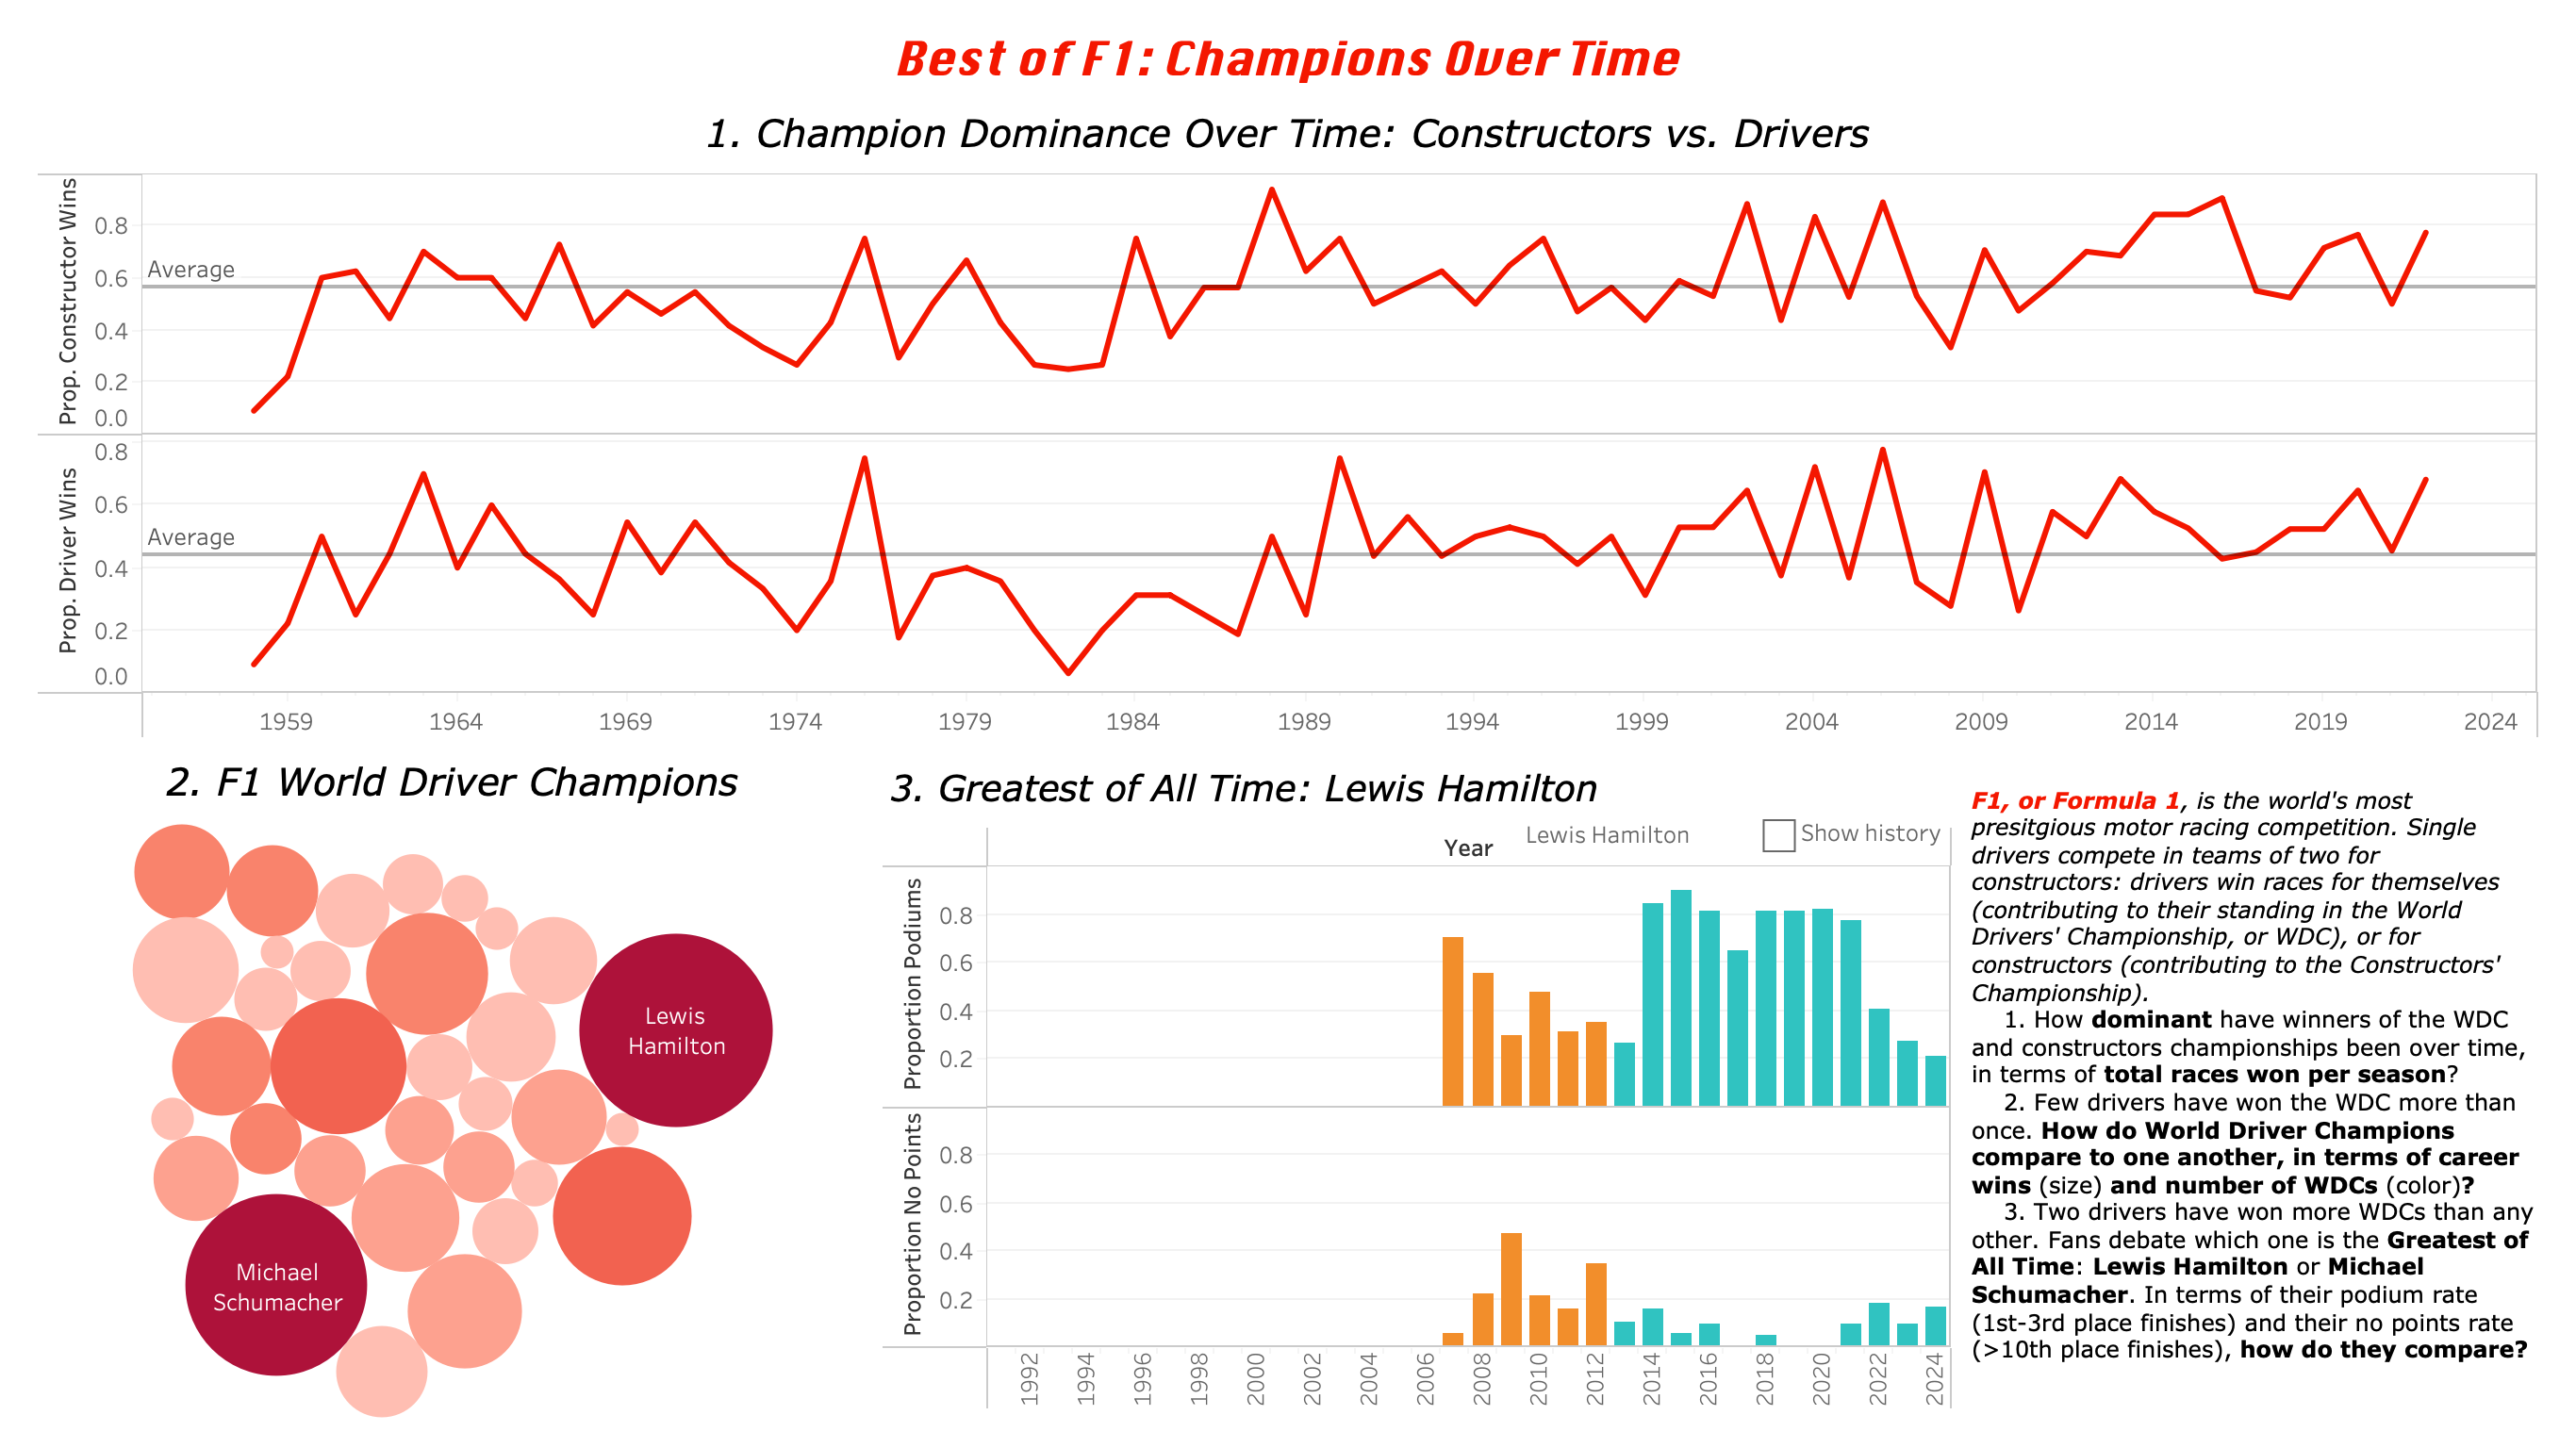

This screenshot's page, from the dashboard's own definition file:
{"tool":"tableau","page":{"name":"F1 Champions","canvas":[1366,768],"ordinal":0},"visuals":[{"type":"title","box":[16,16,1334,32]},{"type":"worksheet","title":"Wins","mark":"Automatic","rows":["prop_cons_wins","prop_dr_wins"],"cols":["year"],"box":[16,48,1334,336]},{"type":"worksheet","title":"Champions","mark":"Circle","box":[16,384,455,368]},{"type":"worksheet","title":"GOATs","mark":"Bar","rows":["prop_podium","prop_loss"],"cols":["Year (date)"],"box":[471,384,583,368]},{"type":"text","box":[1054,384,296,368]},{"type":"currpage","title":"GOATs","box":[813,418,221,20]}]}

Visuals, with their boxes in screenshot pixels (x1, y1, x2, y2), scaled from the page's 1366x768 canvas onto the 2576x1448 screenshot:
title: (30,30,2546,90)
"Wins" worksheet: (30,90,2546,724)
"Champions" worksheet (Circle marks): (30,724,888,1418)
"GOATs" worksheet (Bar marks): (888,724,1988,1418)
text: (1988,724,2546,1418)
"GOATs" currpage: (1533,788,1950,826)
